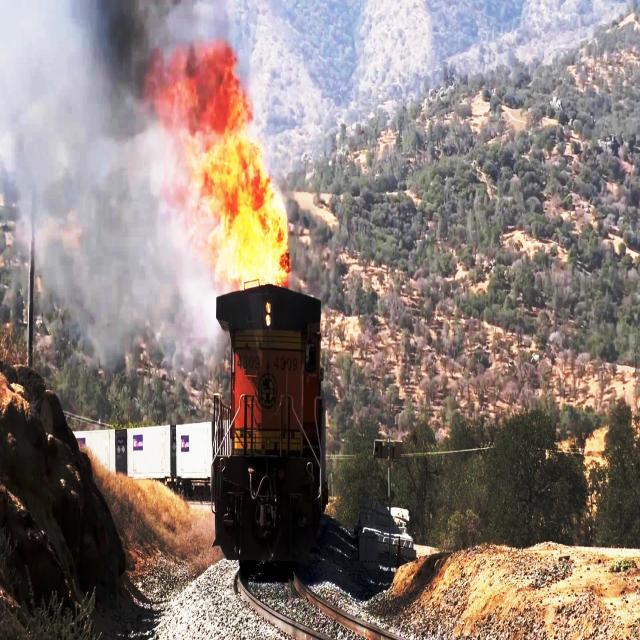Fire: (186, 31, 296, 292)
